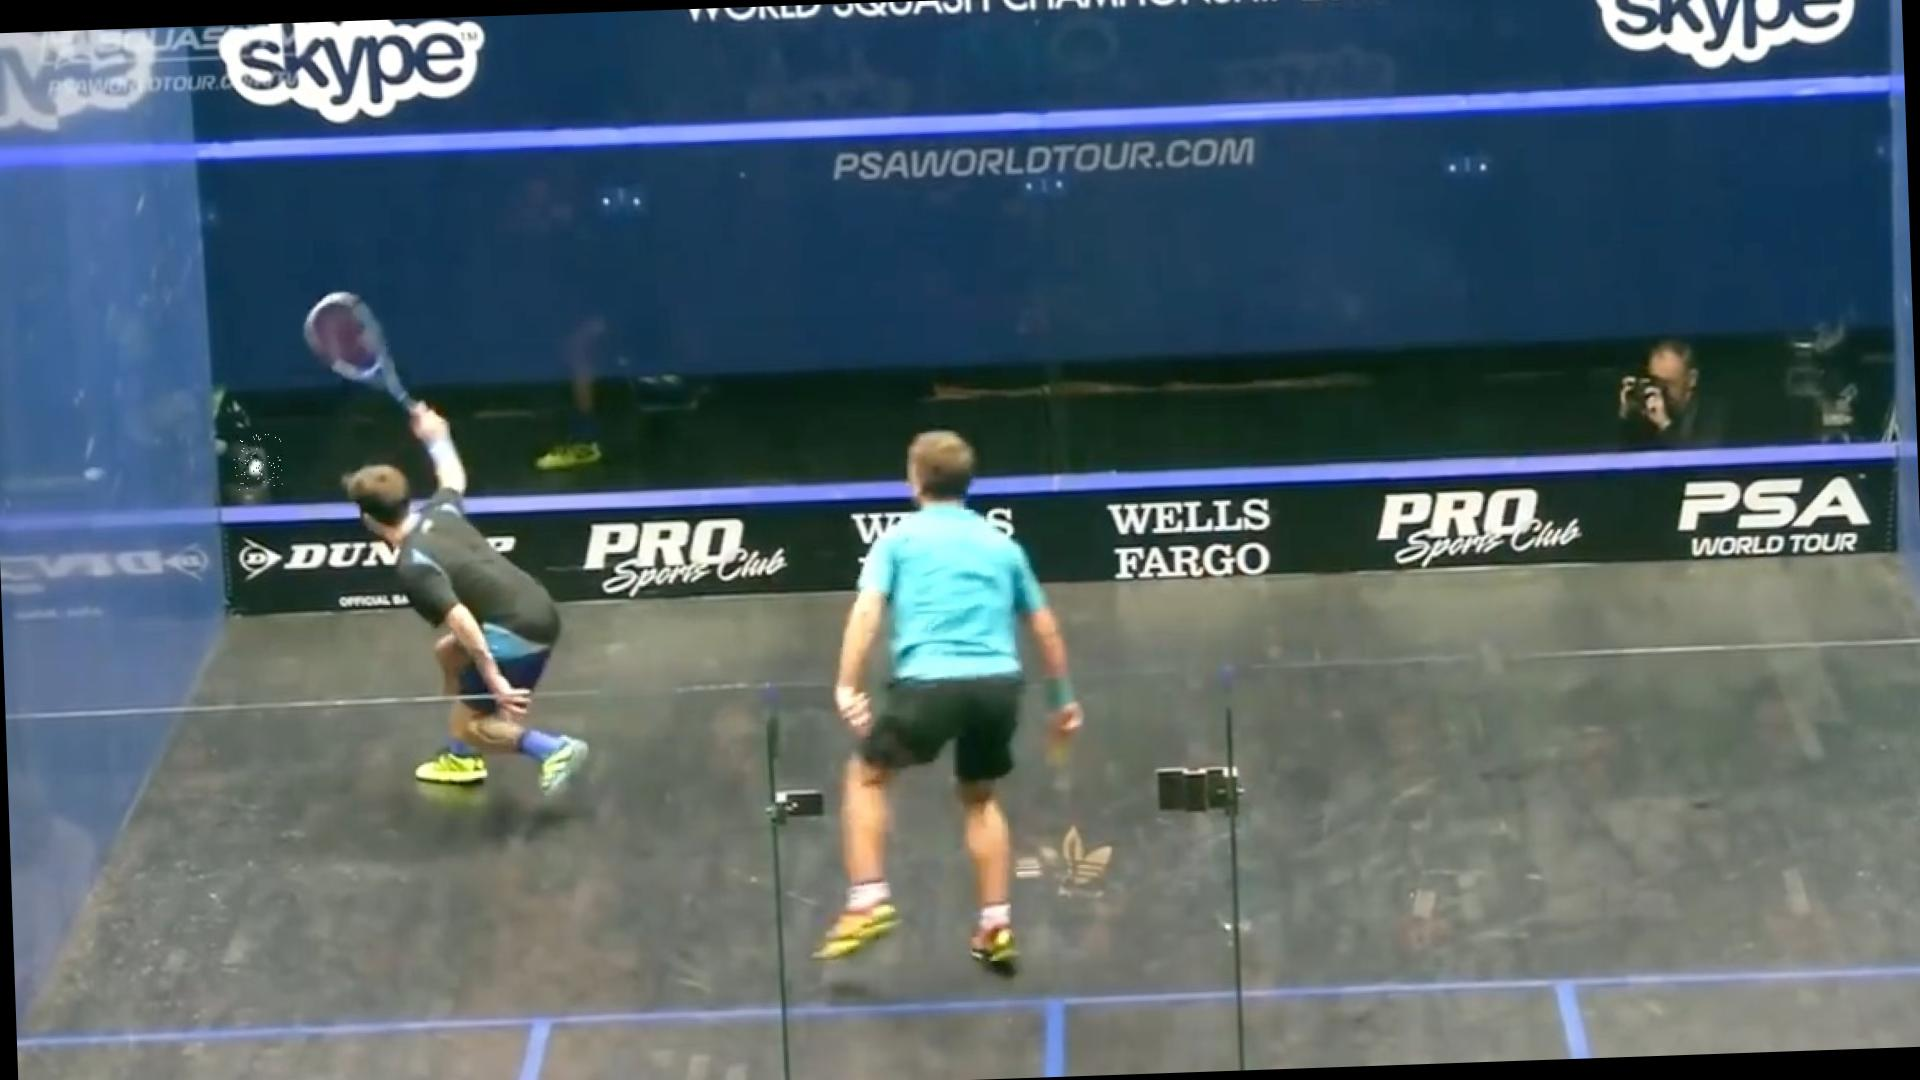Squash-Ball: (231, 434, 284, 491)
